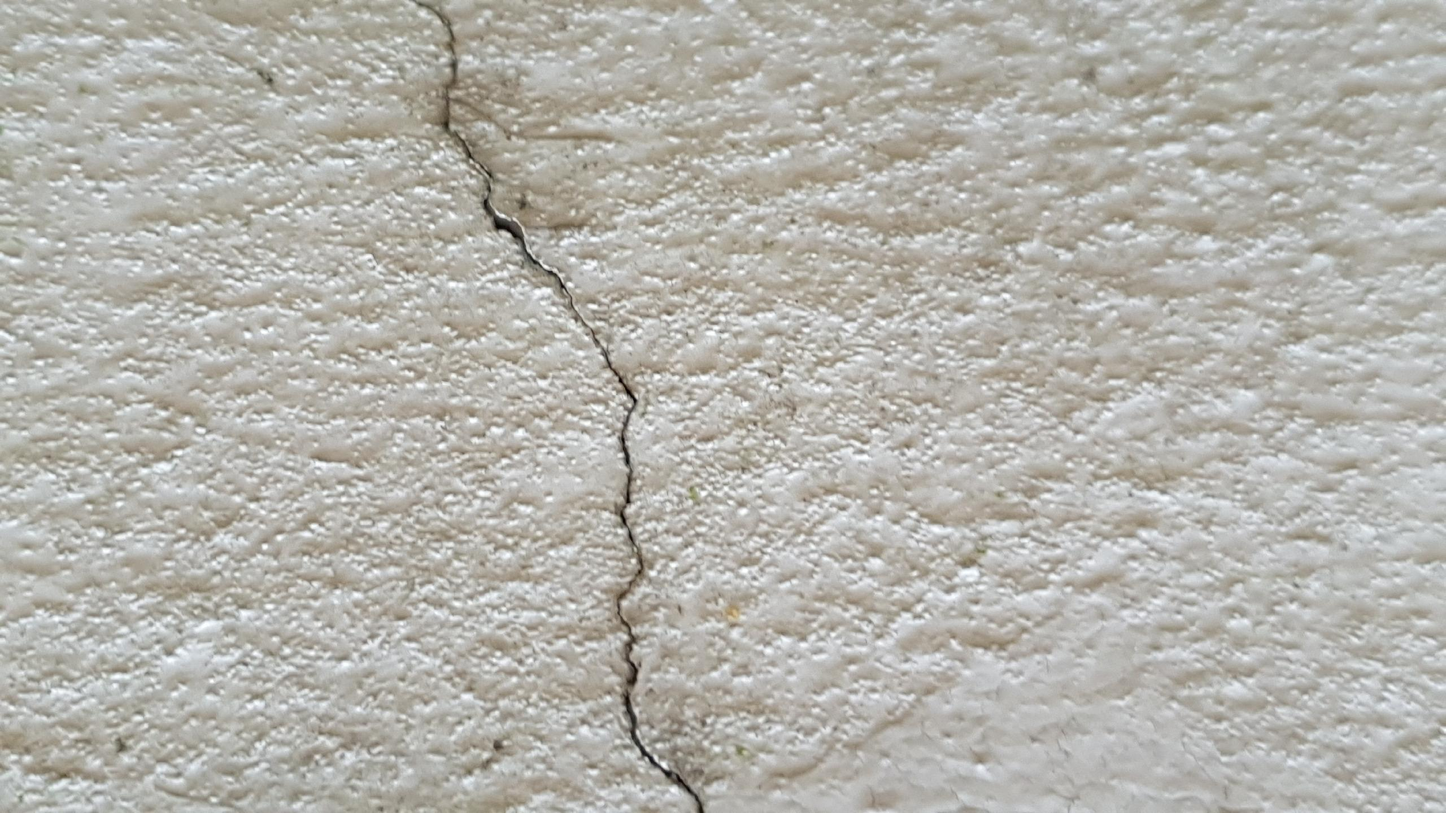crack: (413, 0, 703, 812)
